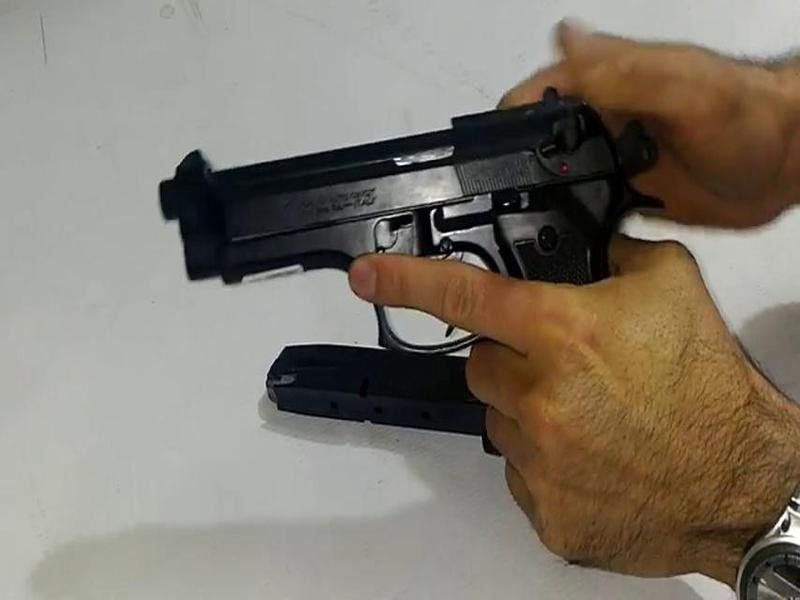Pistola: (120, 85, 686, 484)
